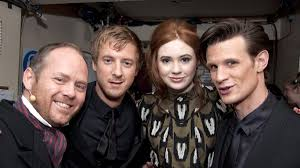Bad: (144, 18, 300, 168), (1, 24, 143, 168), (90, 19, 202, 168)
